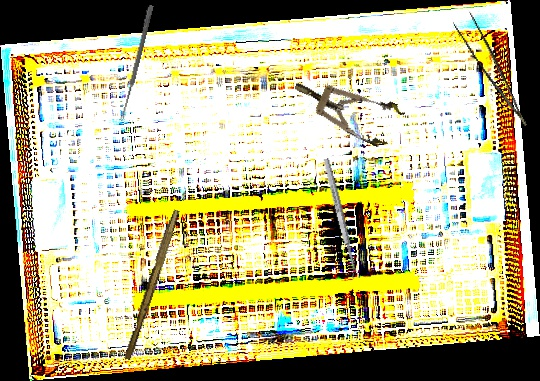Scalpel Handle: (123, 207, 180, 362)
Speculum: (286, 63, 407, 152)
Surgical Spoon: (322, 157, 360, 280), (119, 4, 154, 122)
Tissue Forceps: (450, 7, 528, 136)
